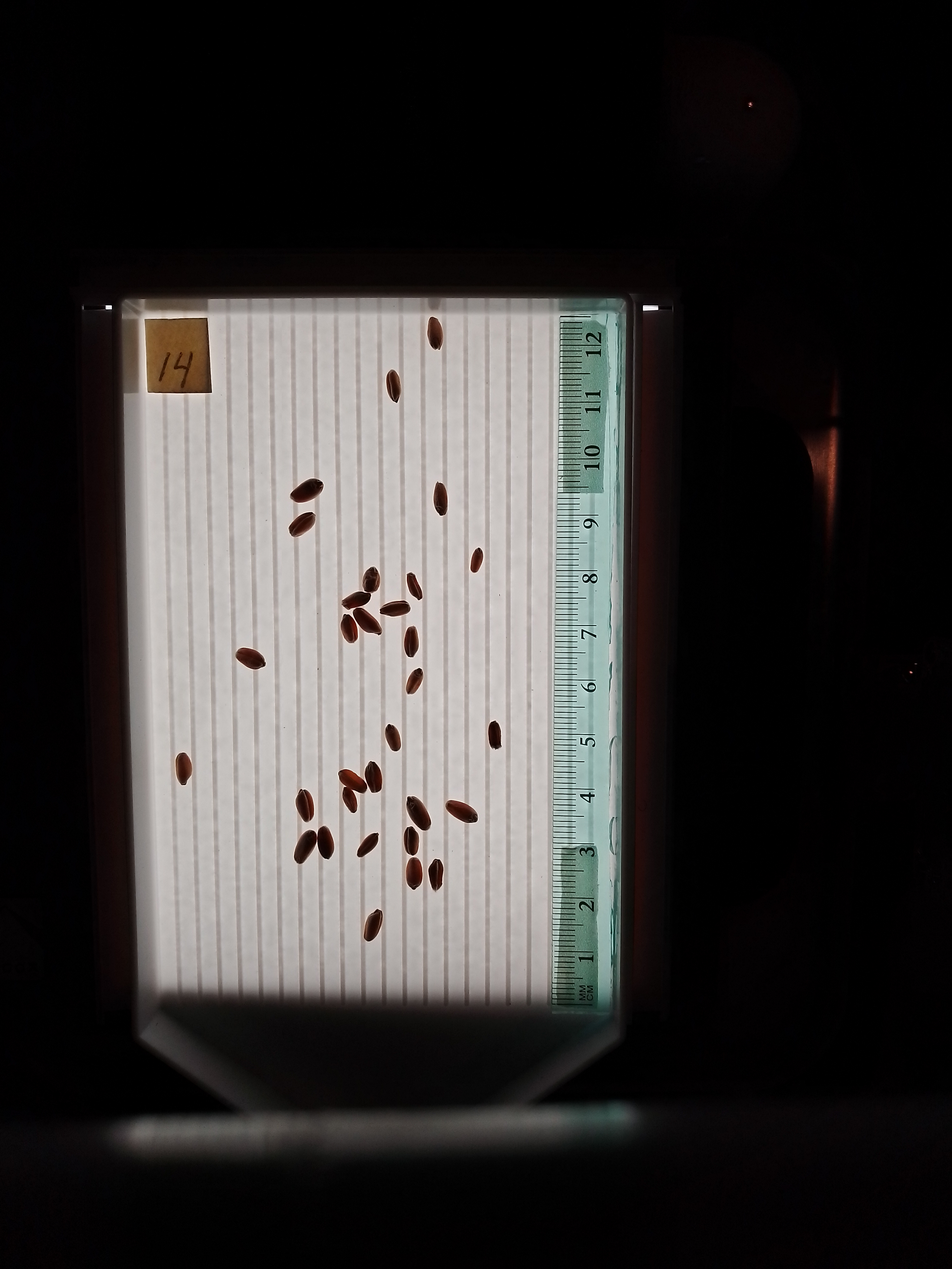seed mask: (407, 796, 431, 831), (291, 477, 323, 503), (294, 831, 316, 864), (446, 800, 477, 823), (355, 608, 381, 635), (339, 769, 367, 792), (363, 910, 383, 942), (236, 648, 265, 670), (290, 512, 315, 536), (296, 790, 314, 822), (175, 753, 193, 785), (427, 318, 444, 350), (317, 826, 334, 858), (365, 762, 383, 792), (357, 833, 379, 857), (428, 859, 444, 891), (406, 859, 423, 889), (380, 600, 409, 617), (362, 567, 380, 594), (343, 592, 370, 609), (341, 616, 358, 643), (404, 626, 419, 656), (433, 483, 447, 515), (406, 670, 423, 694), (404, 827, 419, 854), (387, 371, 400, 402), (407, 574, 423, 599), (488, 722, 502, 749), (386, 725, 400, 751), (470, 549, 483, 572), (343, 791, 357, 812)
